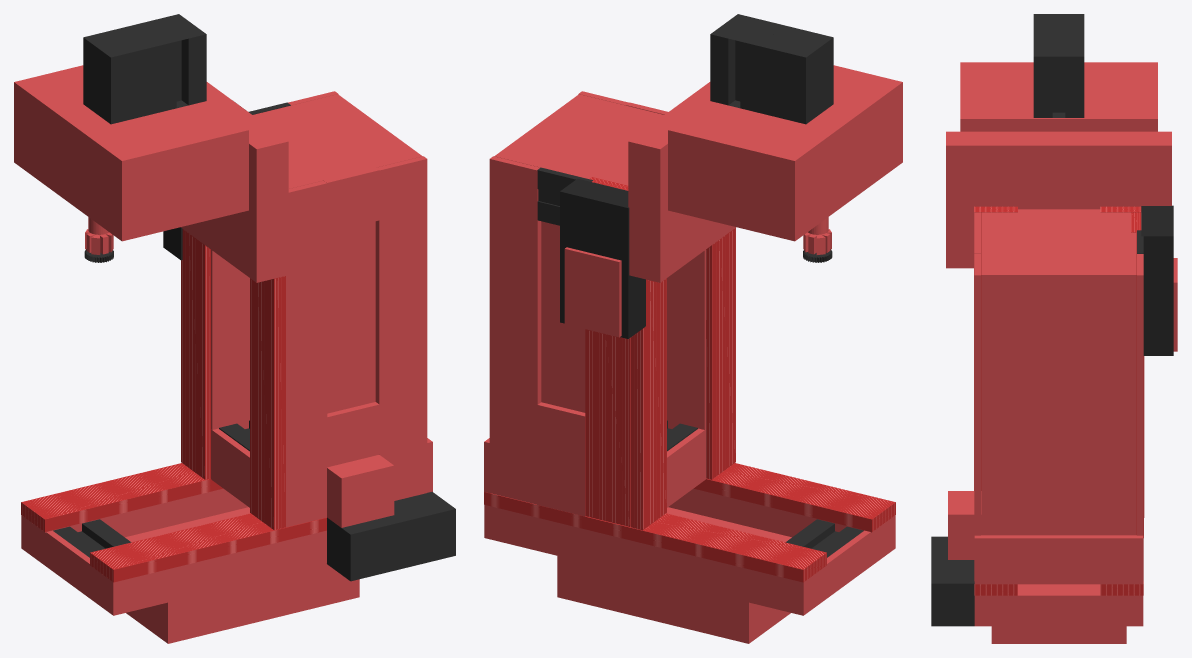
The model's file is torre 1.fbx.
3 views of the same model, side by side, from view 1: azimuth 30°, elevation 25°; view 2: azimuth 150°, elevation 25°; view 3: azimuth 270°, elevation 25° (orthographic). The views are drawn at different scales.
Parts seen in each view (by area): view 1: Cube.006, Cube.013, Cube.016, Cube.025, Cube.015, Cube.011, Cube, Cube.022, Cube.010, Cube.009, Cube.032, Cube.026 (+6 smaller); view 2: Cube.006, Cube.013, Cube.025, Cube.019, Cube, Cube.012, Cube.026, Cube.010, Cube.011, Cube.007, Cube.032, Cube.009 (+7 smaller); view 3: Cube.013, Cube.006, Cube.020, Cube.025, Cube.007, Cube.031, Cube.022, Cube, Cube.019, Cube.016, Cube.017, Cube.032 (+6 smaller).
Part boxes in pixels (box(x1,y1,x2,y2)): Cube.006: box(14, 65, 288, 282); Cube.013: box(211, 94, 422, 478); Cube.016: box(375, 156, 427, 500); Cube.025: box(21, 488, 326, 615); Cube.015: box(286, 180, 327, 527); Cube.011: box(250, 276, 285, 530); Cube: box(126, 564, 359, 643); Cube.022: box(327, 491, 455, 581); Cube.010: box(181, 229, 210, 479); Cube.009: box(90, 513, 326, 582); Cube.032: box(83, 26, 158, 124); Cube.026: box(21, 463, 222, 531); Cube.006: box(628, 65, 902, 282); Cube.013: box(494, 94, 705, 429); Cube.025: box(484, 488, 895, 615); Cube.019: box(489, 156, 541, 504); Cube: box(557, 556, 790, 643); Cube.012: box(585, 177, 630, 526); Cube.026: box(484, 492, 826, 582); Cube.010: box(631, 278, 666, 530); Cube.011: box(706, 228, 735, 479); Cube.007: box(560, 178, 645, 338); Cube.032: box(758, 26, 833, 124); Cube.009: box(694, 463, 895, 531); Cube.013: box(981, 209, 1136, 535); Cube.006: box(946, 62, 1171, 268); Cube.020: box(974, 535, 1143, 584); Cube.025: box(974, 584, 1143, 626); Cube.007: box(1141, 205, 1173, 355); Cube.031: box(1033, 35, 1084, 117); Cube.022: box(931, 536, 974, 626); Cube: box(991, 626, 1126, 643); Cube.019: box(1137, 254, 1143, 580); Cube.016: box(974, 254, 980, 580); Cube.017: box(948, 491, 981, 559); Cube.032: box(1033, 14, 1084, 35).
Size of the model in its own units: 1000 by 1729 by 730.
